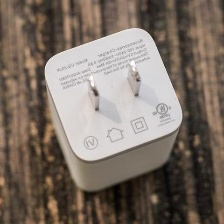three_eye_plug: (41, 23, 185, 198)
